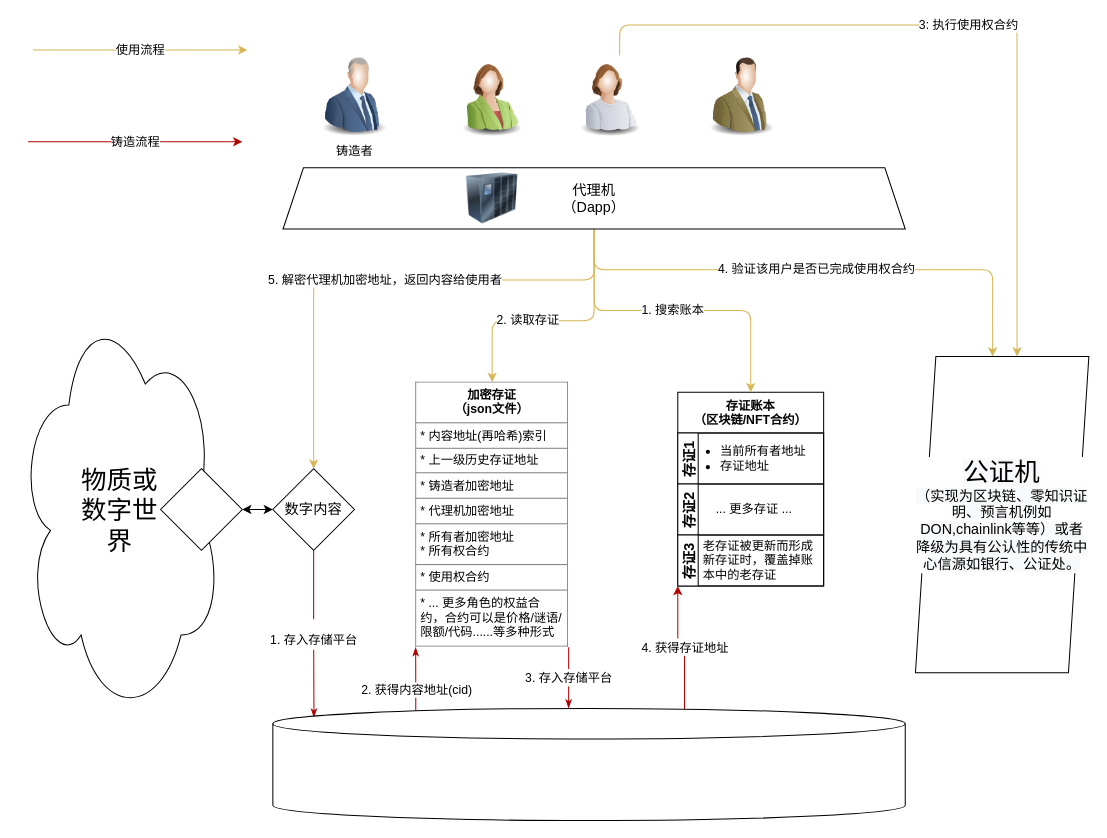
This 1107x838 diagram has some shape labels left out. The shapes that lost their labels are listed below. From the top down, each one's centre as x and y in pixels, then its label:
(490,96): 所有者
(609,96): 使用者
(741,96): 更多角色
(201,509): 某存在
(588,764): 去中心化内容寻址存储平台 IPFS/Arweave
